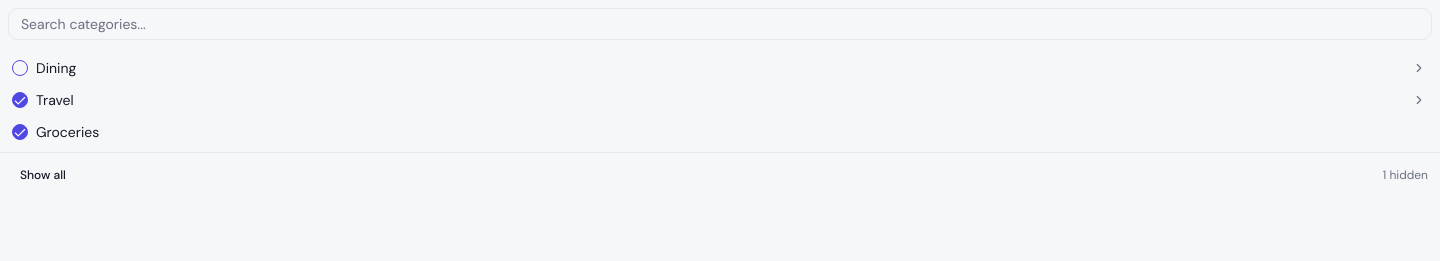
Test case: CategoryFilterList › keeps sub checkboxes usable after the last one is unticked
This screenshot has width=1440, height=261.
What coordinates should you click on to do the following:
click the button named "sub-categories of dining"
I would click on:
 (1419, 68)
Its box is [1410,59,1428,77].
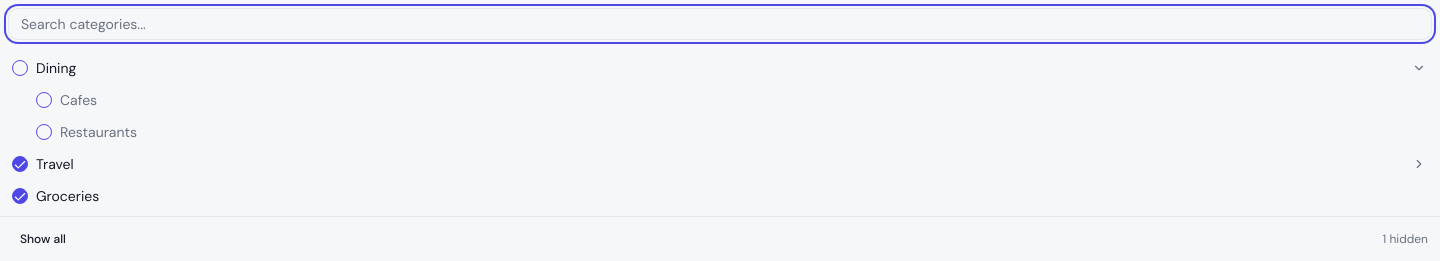
expect the checkbox named "Cafes" next to "Cafes" is enabled: met, box [36,92,52,108]
expect the checkbox named "Restaurants" next to "Restaurants" is enabled: met, box [36,124,52,140]
